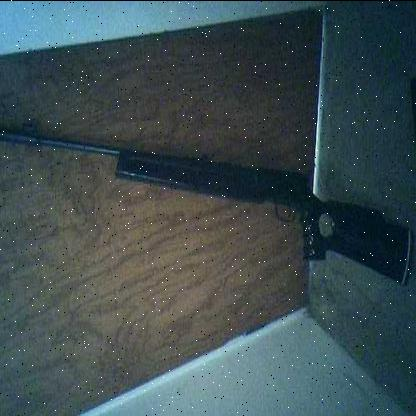rifle: (0, 102, 415, 300)
